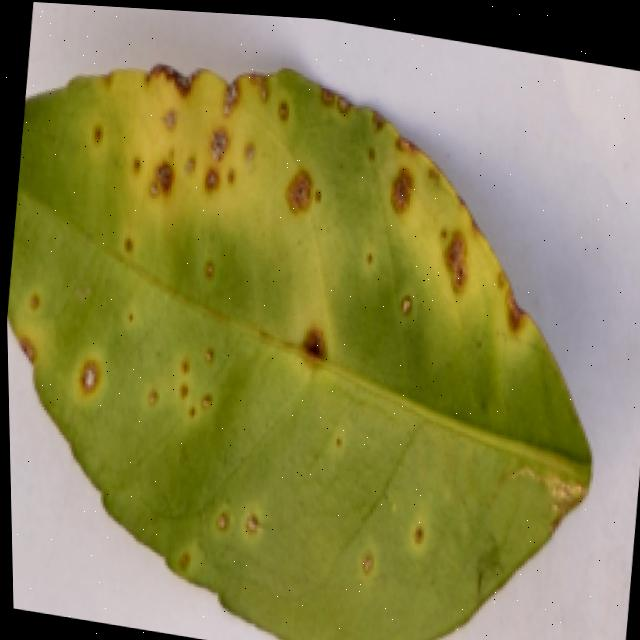canker: (7, 63, 589, 640), (54, 18, 590, 346), (138, 457, 441, 619), (6, 287, 258, 429)
